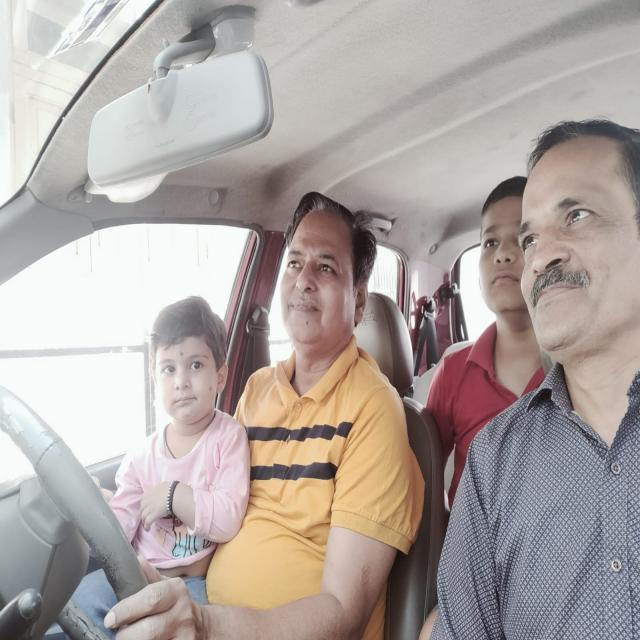child: (148, 288, 235, 430)
person: (516, 110, 640, 382), (272, 176, 380, 388), (479, 169, 525, 331)
